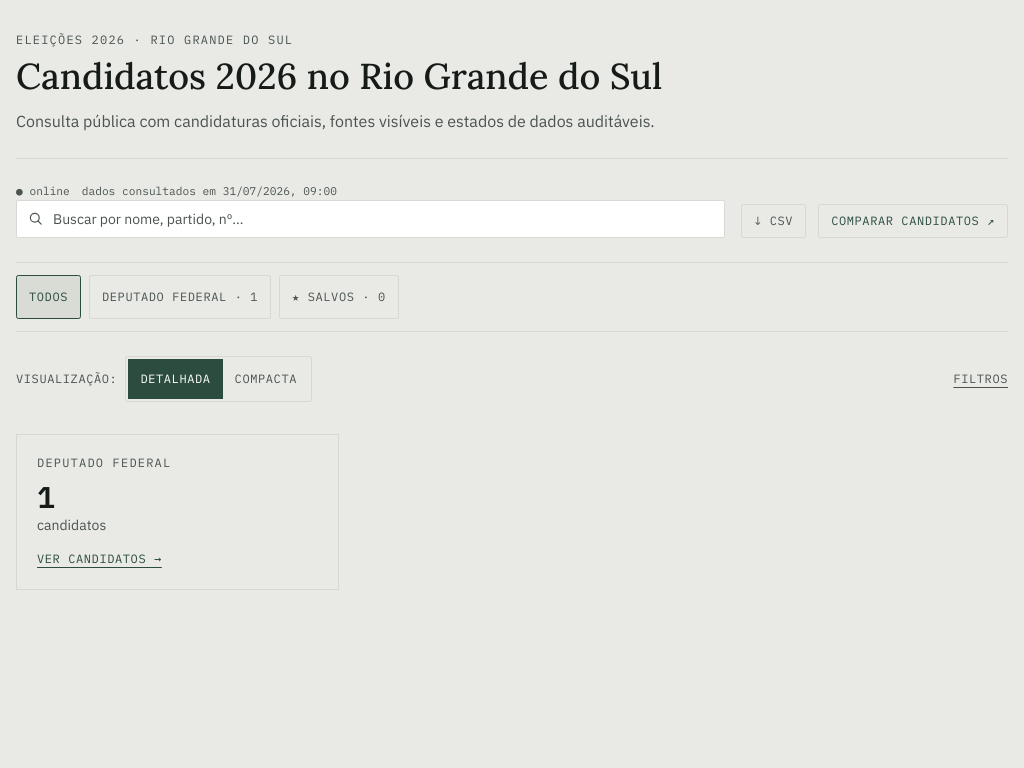
HomePage estados honestos H5.2 › filtro sem resultado permite limpar filtros e não parece indisponibilidade
Step 1. Type "zzzz-sem-resultado" into the search field named "buscar candidatos" → (371, 219), box [16, 200, 725, 238]
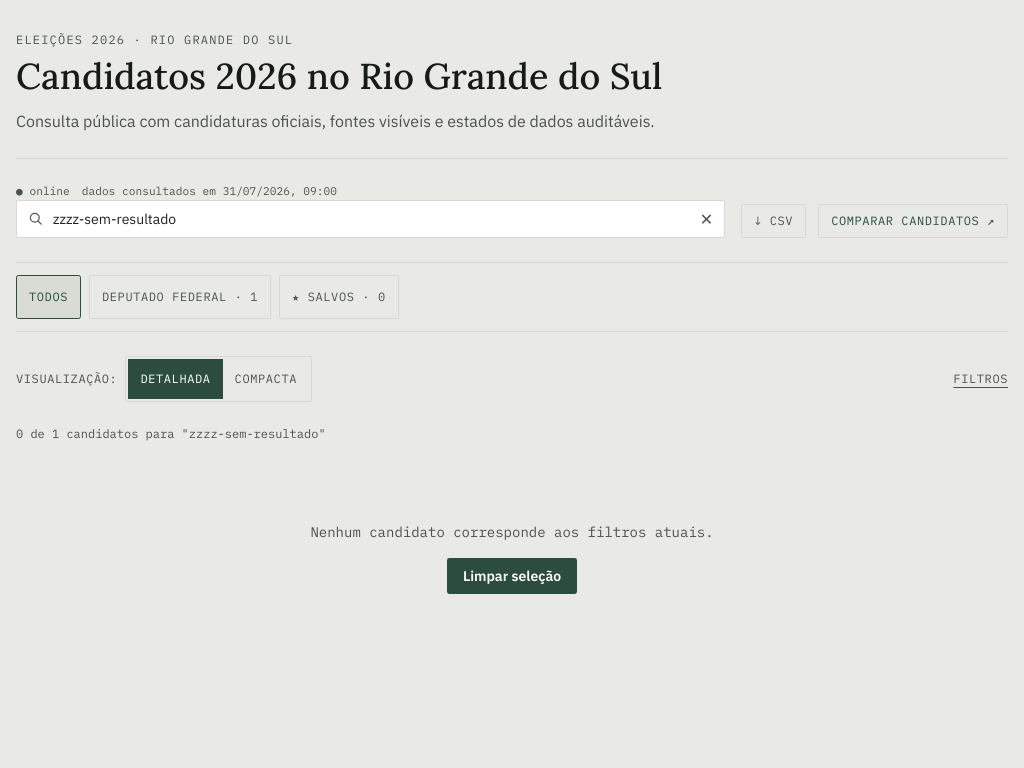
Expected: the text "Nenhum candidato corresponde aos filtros atuais." is shown, [310, 523, 714, 541]
Step 2. Click the button "Limpar seleção" → (512, 576), box [447, 558, 577, 594]
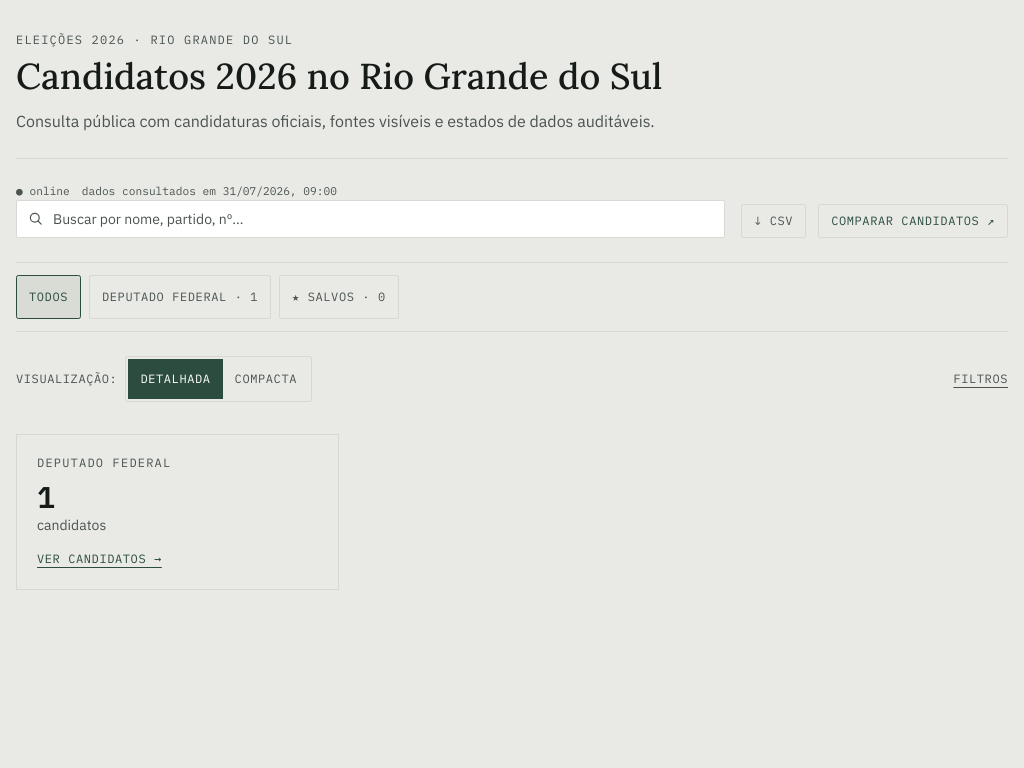
Step 3. Click the button "Deputado Federal · 1" → (180, 297), box [89, 275, 271, 319]
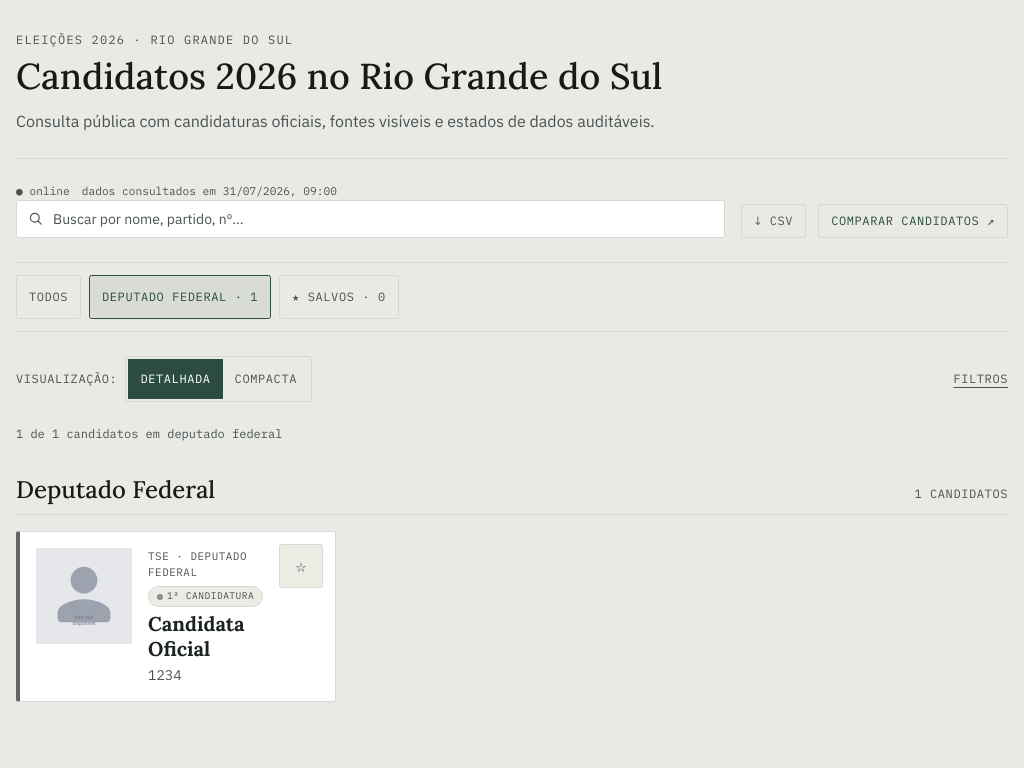
Expected: the heading "Candidata Oficial" is shown, [148, 611, 244, 661]
